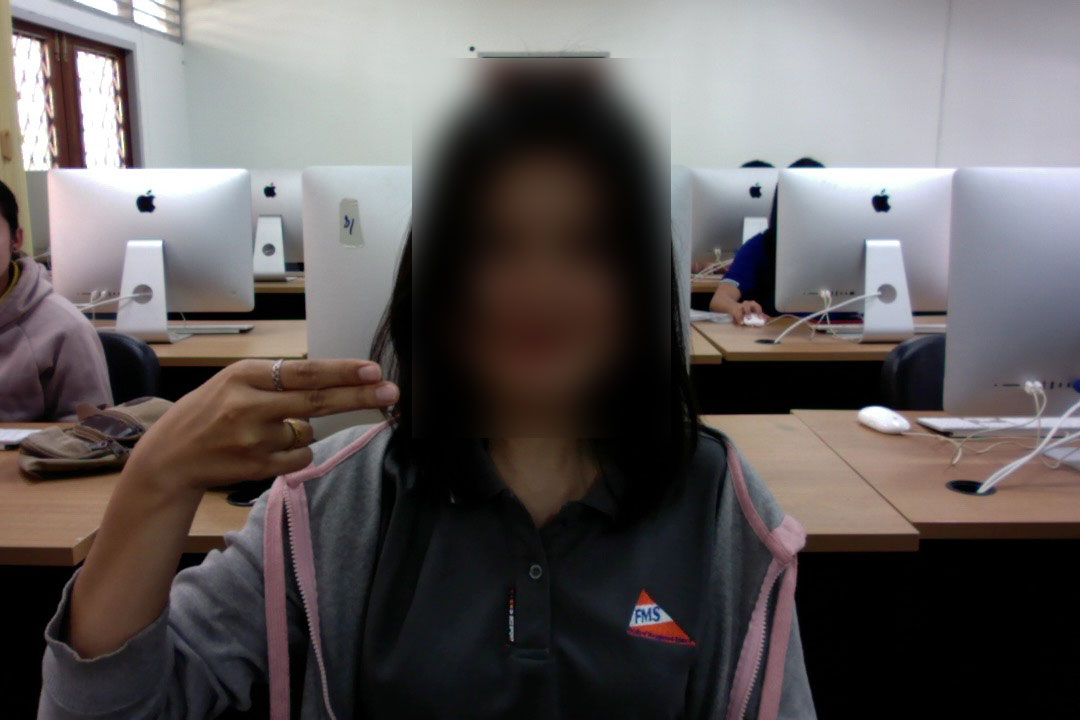hor: (118, 351, 404, 496)
